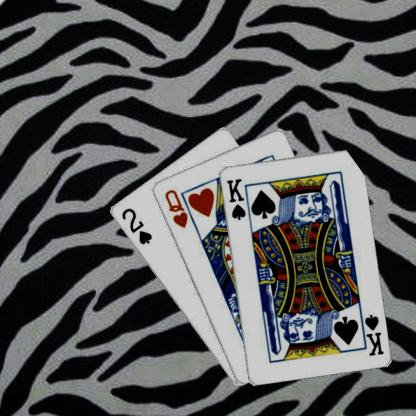2S: (118, 205, 154, 245)
KS: (357, 309, 384, 357), (223, 176, 246, 222)
QH: (161, 186, 189, 230)
